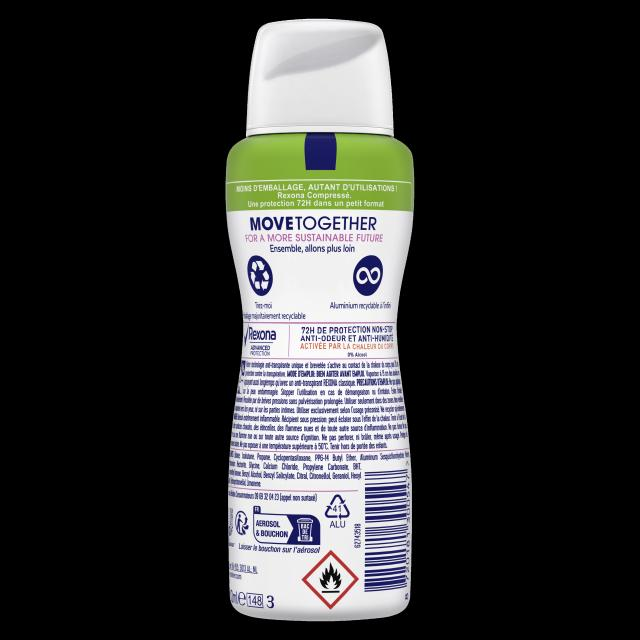GHS_Symbol_FLAME: (302, 550, 359, 610)
